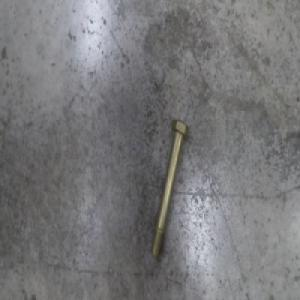Bolt: (150, 116, 188, 259)
